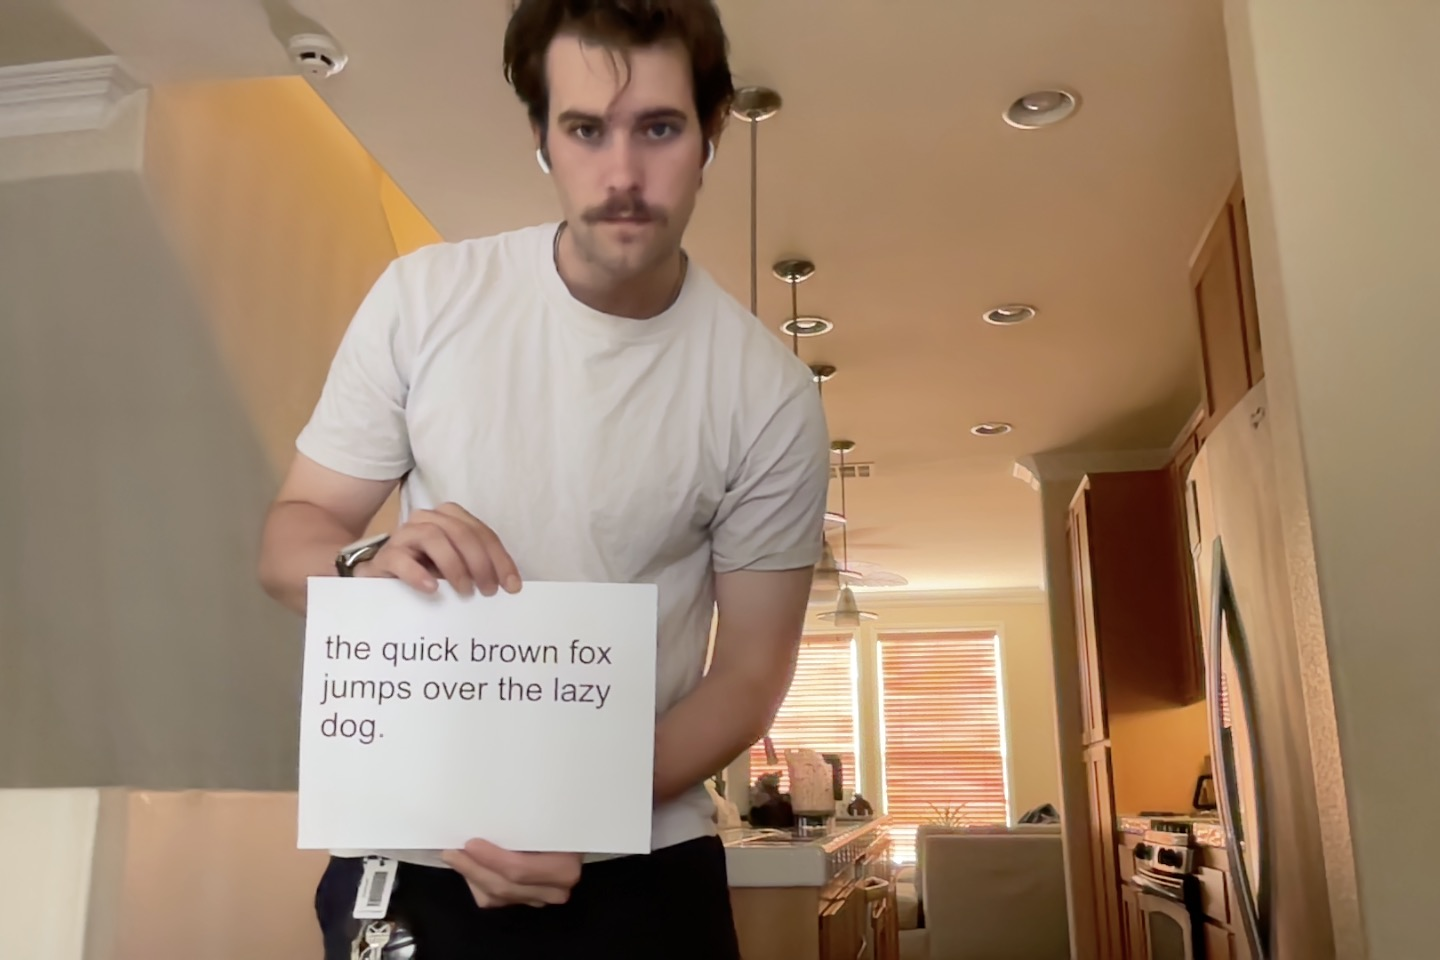phrase: (317, 631, 617, 749)
